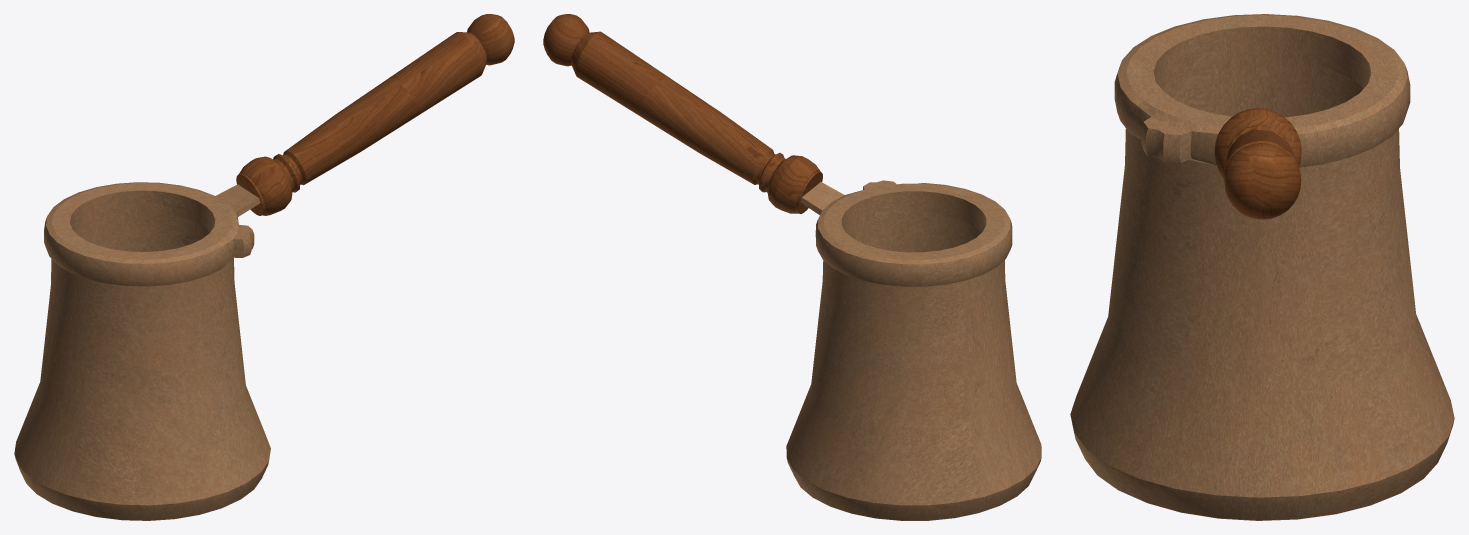
Rendered from Arabic coffee pot.fbx.
3 renders of one model, left to right at view 1: azimuth 30°, elevation 25°; view 2: azimuth 150°, elevation 25°; view 3: azimuth 270°, elevation 25°, orthographic. The views are drawn at different scales.
Parts seen in each view (by area): view 1: Arabic coffee pot; view 2: Arabic coffee pot; view 3: Arabic coffee pot.
Part boxes in pixels (x1,y1,x2,y2): Arabic coffee pot: (14, 14, 514, 520); Arabic coffee pot: (543, 14, 1041, 520); Arabic coffee pot: (1070, 14, 1454, 520).
Size of the model in its own units: 18.74 by 13.86 by 8.72.
